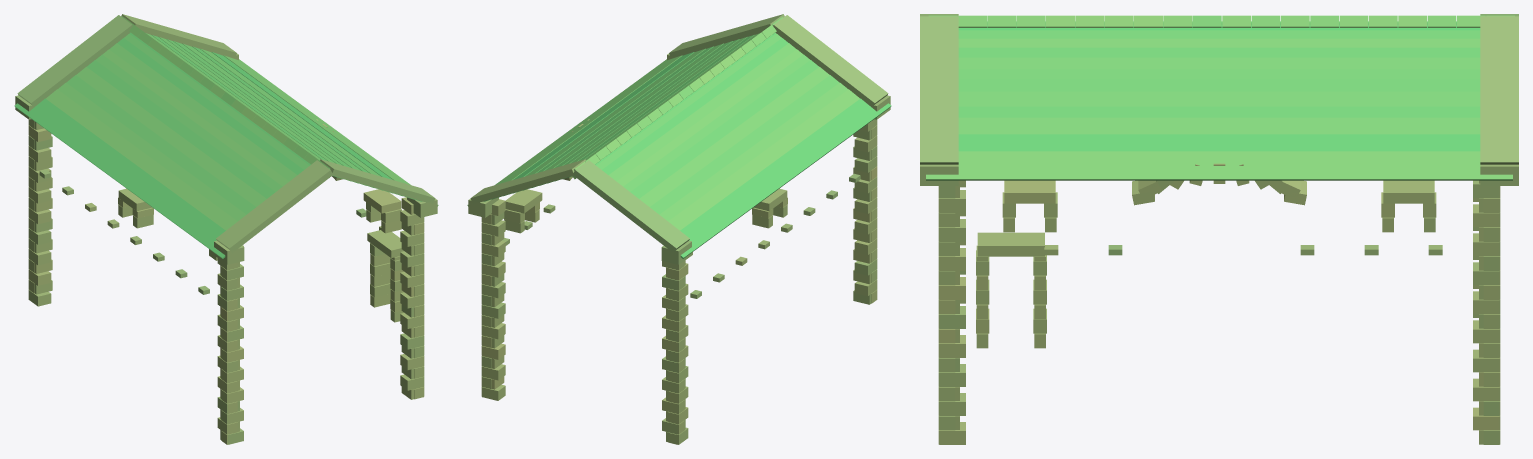
The model's file is SM_Bld_096_Stone.glb.
3 views of the same model, side by side, from view 1: azimuth 30°, elevation 25°; view 2: azimuth 150°, elevation 25°; view 3: azimuth 270°, elevation 25° (orthographic). The views are drawn at different scales.
Visible parts, largest first — view 1: SM_Bld_096_Stone; view 2: SM_Bld_096_Stone; view 3: SM_Bld_096_Stone.
Part boxes in pixels (bbox=[...]): SM_Bld_096_Stone: bbox=[14, 14, 438, 444]; SM_Bld_096_Stone: bbox=[467, 14, 891, 444]; SM_Bld_096_Stone: bbox=[920, 14, 1518, 444].
Bounding box in the file's own units: 6.61 × 7.48 × 11.22.
